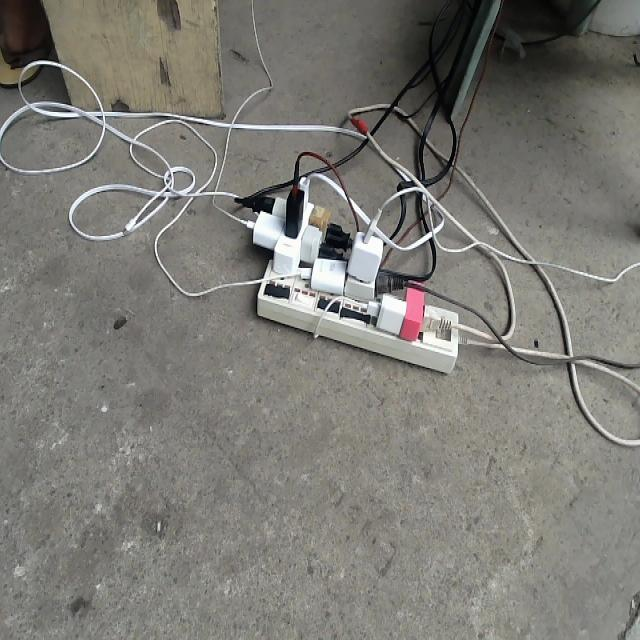-: (239, 149, 467, 375)
